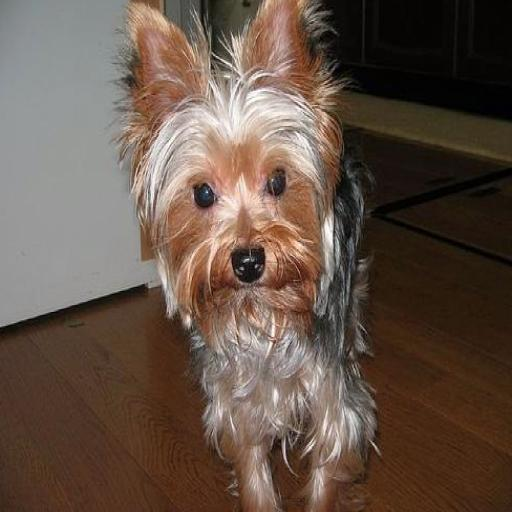dog_face: (129, 2, 329, 316)
